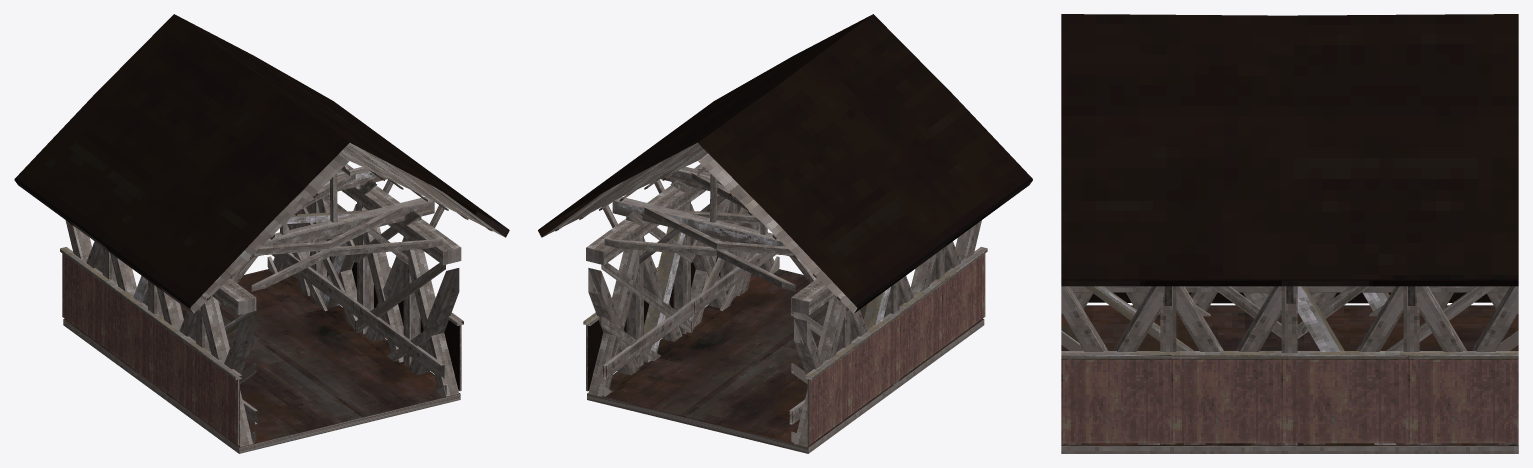
The model's file is 3_b4_middle.glb.
3 renders of one model, left to right at view 1: azimuth 30°, elevation 25°; view 2: azimuth 150°, elevation 25°; view 3: azimuth 270°, elevation 25°, orthographic. The views are drawn at different scales.
Parts seen in each view (by area): view 1: 3_b4_middle; view 2: 3_b4_middle; view 3: 3_b4_middle.
Boxes of the visible parts, x1=… form: 3_b4_middle: x1=14, y1=14, x2=509, y2=453; 3_b4_middle: x1=538, y1=14, x2=1032, y2=453; 3_b4_middle: x1=1061, y1=14, x2=1518, y2=453.
Size of the model in its own units: 8.69 by 7.39 by 8.29.
Materials: 1 (1 with a texture image).
